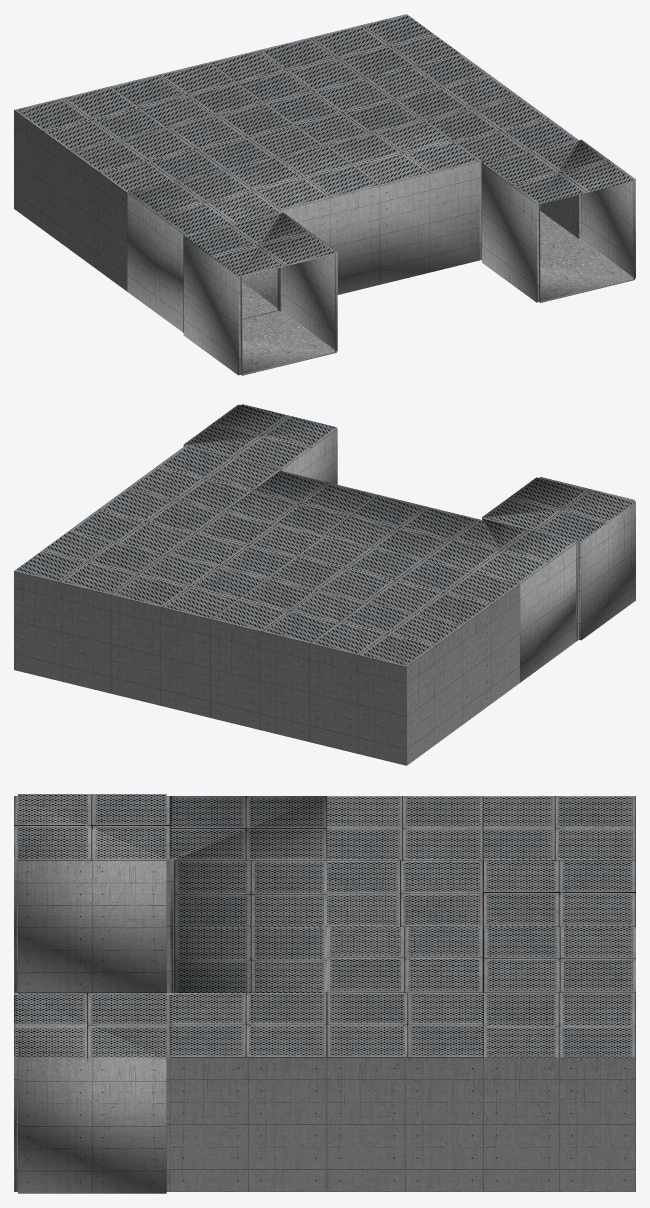
File: UTurn.fbx
3 renders of one model, top to bottom at view 1: azimuth 30°, elevation 25°; view 2: azimuth 150°, elevation 25°; view 3: azimuth 270°, elevation 25°, orthographic. The views are drawn at different scales.
Visible parts, largest first — view 1: Room.012, Room.001, Room.002; view 2: Room.012, Room.001, Room.002; view 3: Room.012, Room.002, Room.001.
Boxes of the visible parts, x1,y1,x2,y2 form: Room.012: [14, 14, 577, 332]; Room.001: [183, 212, 337, 375]; Room.002: [482, 139, 635, 302]; Room.012: [14, 446, 577, 765]; Room.001: [482, 477, 635, 640]; Room.002: [183, 404, 337, 484]; Room.012: [170, 796, 635, 1191]; Room.002: [14, 992, 170, 1193]; Room.001: [14, 794, 170, 993].
Bounding box in the file's own units: 800 × 190 × 795.
